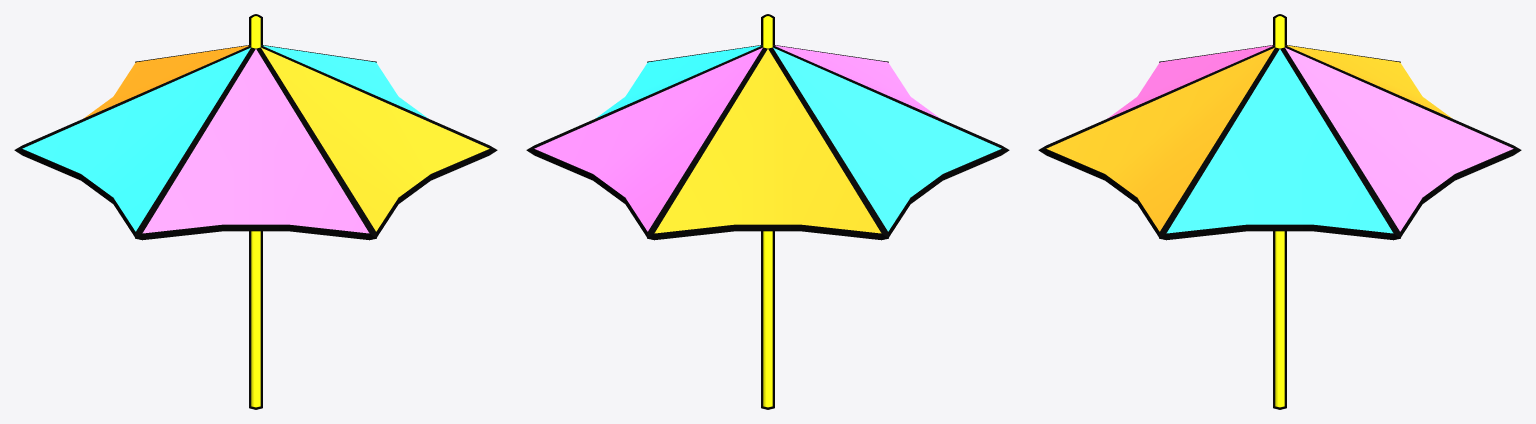
The model's file is cocobay_env_umbrella.gltf.
3 renders of one model, left to right at view 1: azimuth 30°, elevation 25°; view 2: azimuth 150°, elevation 25°; view 3: azimuth 270°, elevation 25°, orthographic.
Parts seen in each view (by area): view 1: cocobay_env_umbrella_glb; view 2: cocobay_env_umbrella_glb; view 3: cocobay_env_umbrella_glb.
Part boxes in pixels (left/top/right/bottom): cocobay_env_umbrella_glb: left=14, top=14, right=497, bottom=409; cocobay_env_umbrella_glb: left=526, top=14, right=1009, bottom=409; cocobay_env_umbrella_glb: left=1038, top=14, right=1521, bottom=409.
Size of what is drawn, in the model's own units: 3.71 by 3.83 by 4.29.
Materials: 1 (1 with a texture image).
